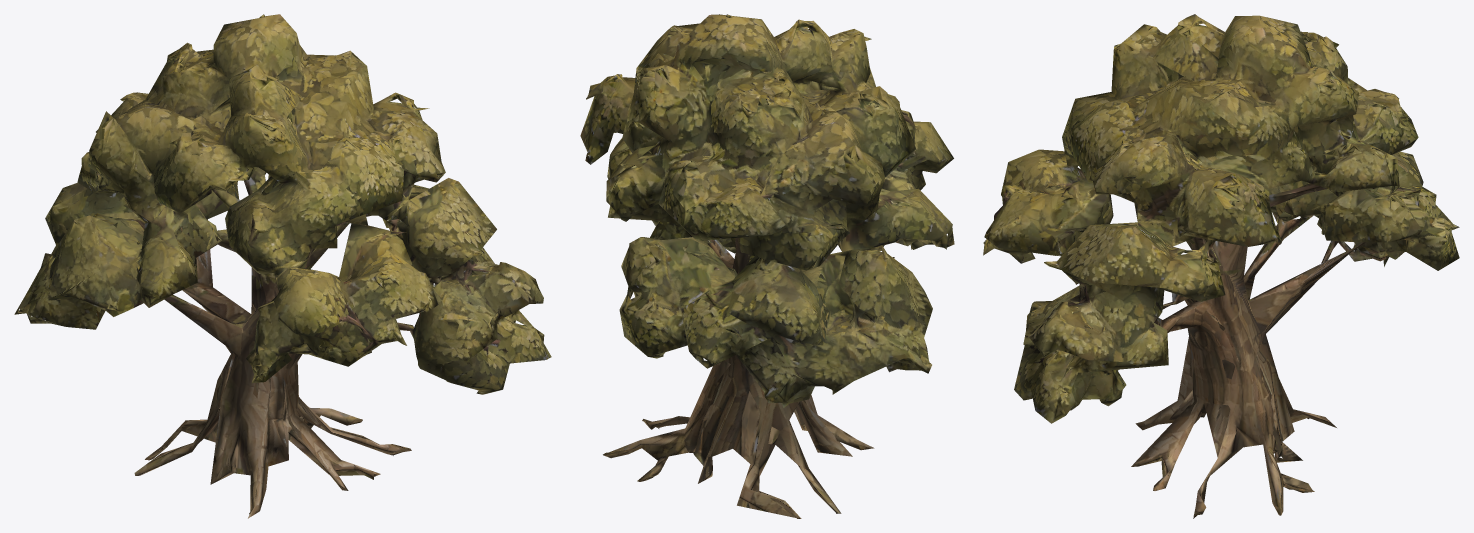
The model's file is P01_BroadleafTree.glb.
3 renders of one model, left to right at view 1: azimuth 30°, elevation 25°; view 2: azimuth 150°, elevation 25°; view 3: azimuth 270°, elevation 25°, orthographic. The views are drawn at different scales.
Parts seen in each view (by area): view 1: texture_mapping; view 2: texture_mapping; view 3: texture_mapping.
Boxes of the visible parts, x1,y1,x2,y2 form: texture_mapping: (14, 14, 551, 518); texture_mapping: (580, 14, 954, 518); texture_mapping: (983, 14, 1459, 518).
Size of the model in its own units: 0.9547 by 0.9936 by 0.9556.
1 material, 1 textured.
